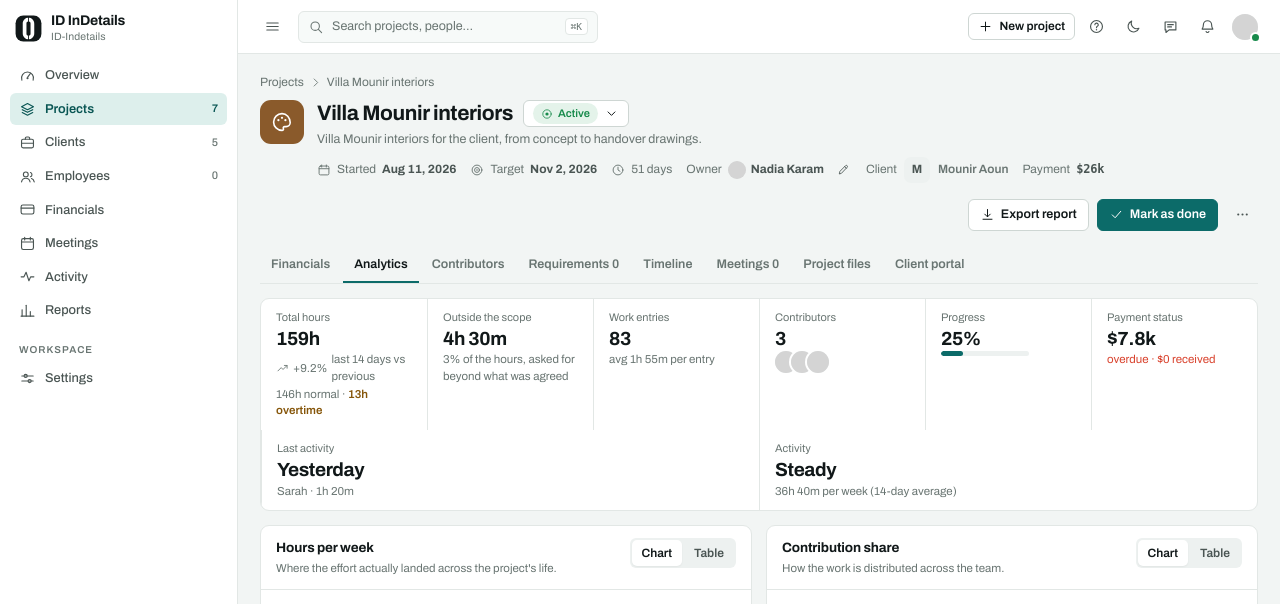
Scenario: a contributor and their entries › shows how much of the work was outside the original scope, and whose
Expected: the text "Outside the scope" shows "4h 30m", [443,328,507,349]
What coordinates should you click on to do the following:
click the tab "Contributors"
I would click on:
 (468, 265)
Its box is [421,246,516,283].
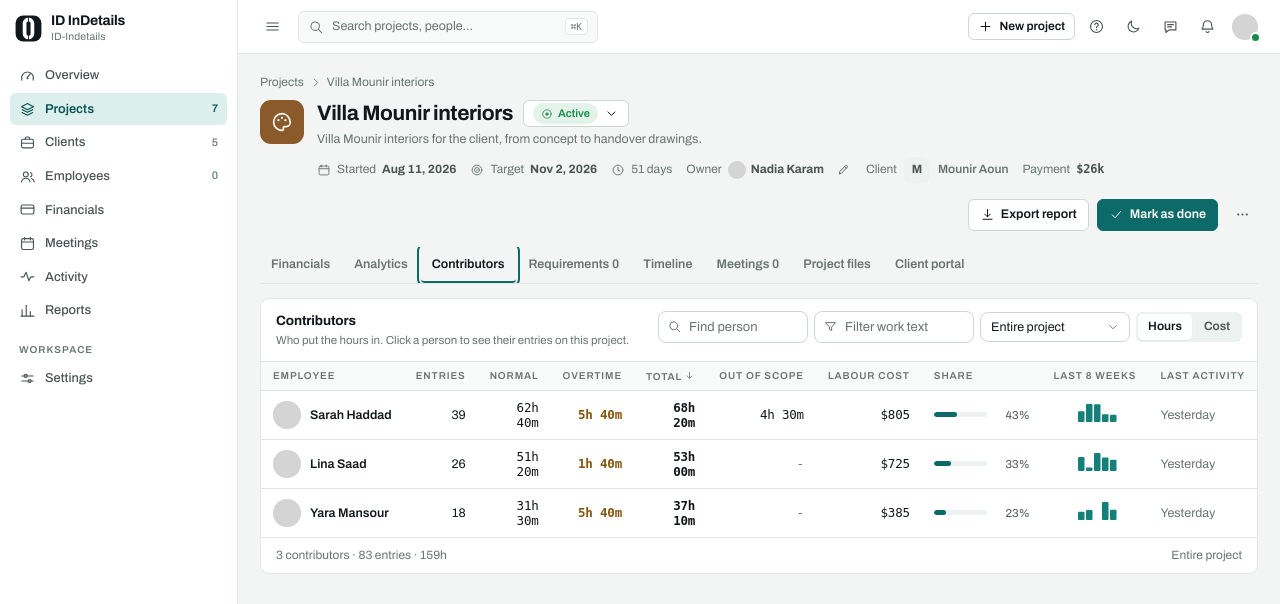
Expected: the column heading "Out of scope" is shown, [707,362,816,391]
Expected: the text "Sarah Haddad" shows "4h 30m", [760,407,804,422]
